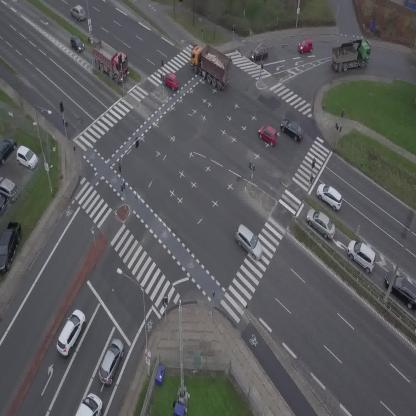car: (51, 307, 90, 358), (94, 336, 128, 387), (342, 236, 383, 275), (229, 223, 269, 262), (301, 205, 341, 242), (312, 179, 347, 213), (277, 116, 307, 144), (255, 123, 281, 148), (65, 33, 87, 55), (160, 70, 182, 91), (68, 2, 89, 23), (250, 45, 269, 60), (296, 38, 313, 53)
lorry: (181, 39, 239, 92), (83, 35, 137, 86), (328, 37, 375, 74), (75, 393, 102, 416)
